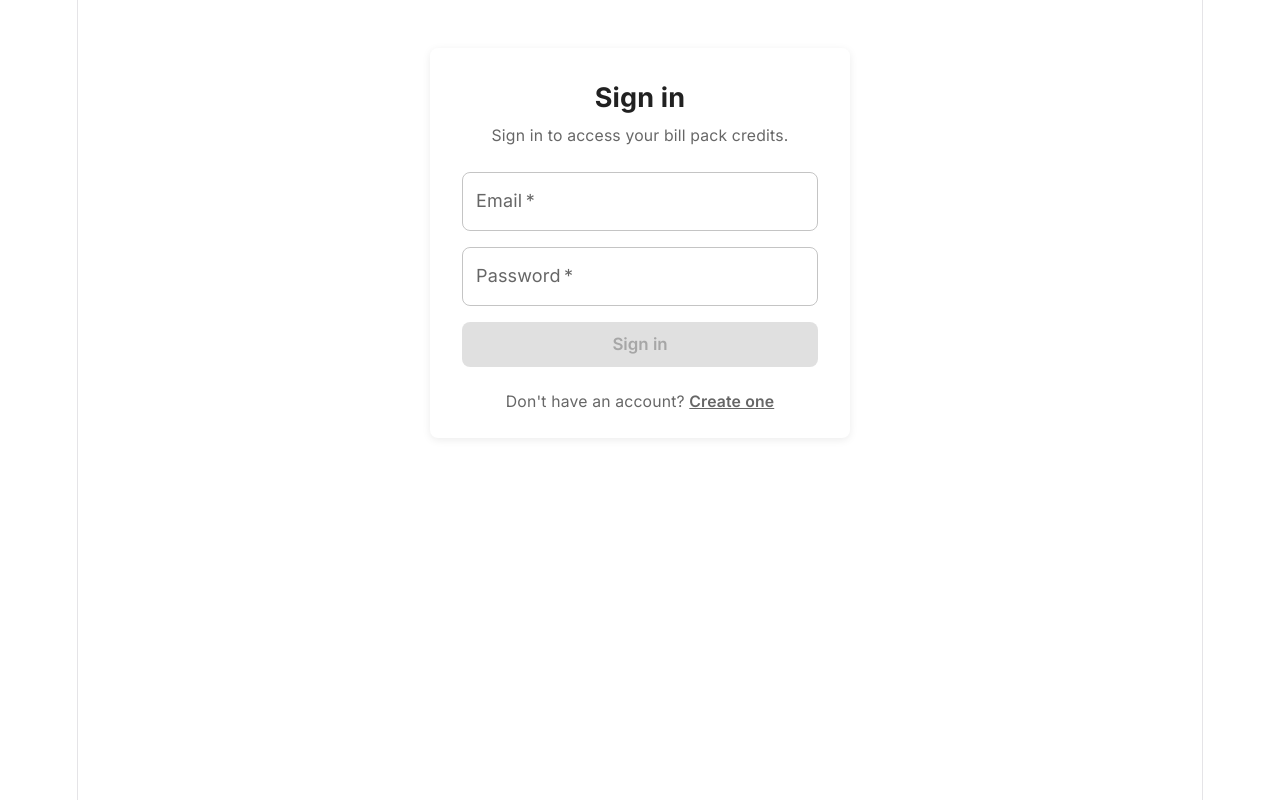
Test: LoginPage › shows an error banner when sign-in fails
Type "bad@example.com" into the field labelled "Email *".
click(640, 201); type("bad@example.com")  # box [462,172,818,231]
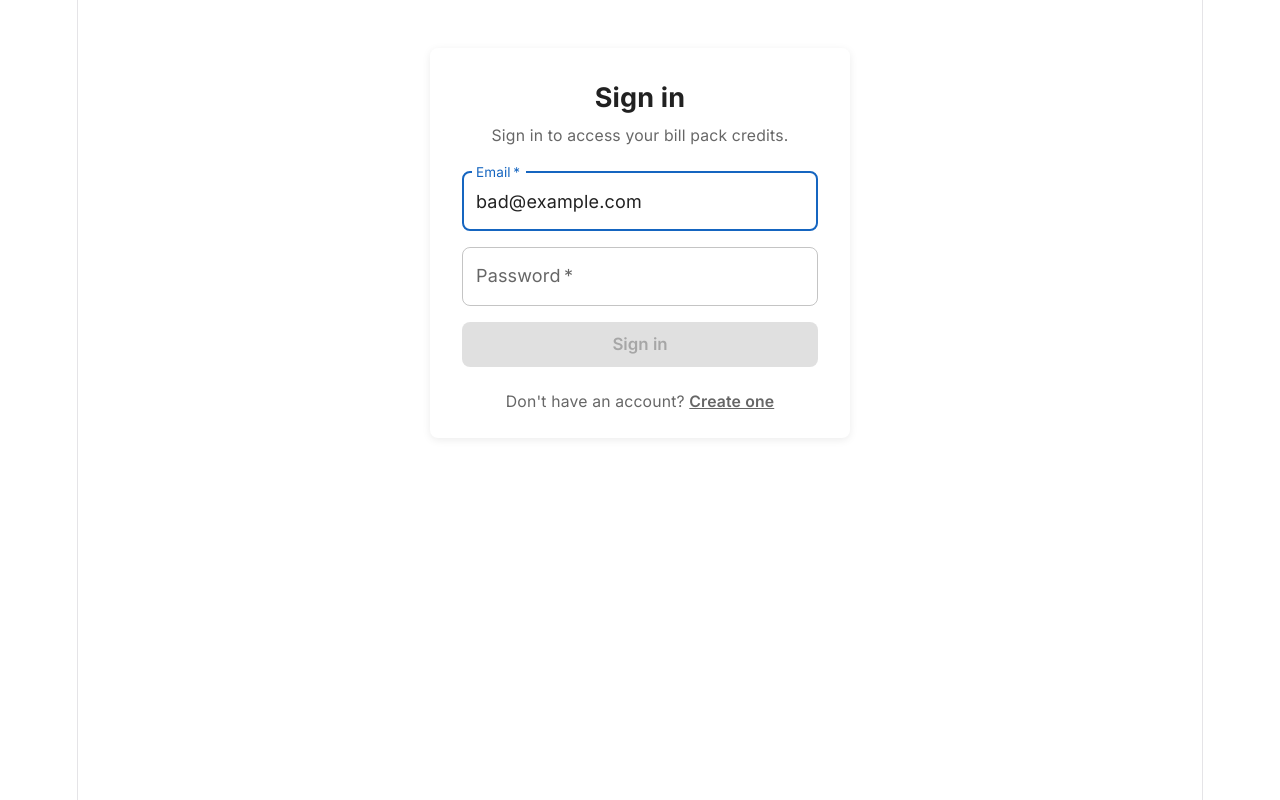
Type "wrongpass" into the password field labelled "Password *".
click(640, 276); type("wrongpass")  # box [462,247,818,306]
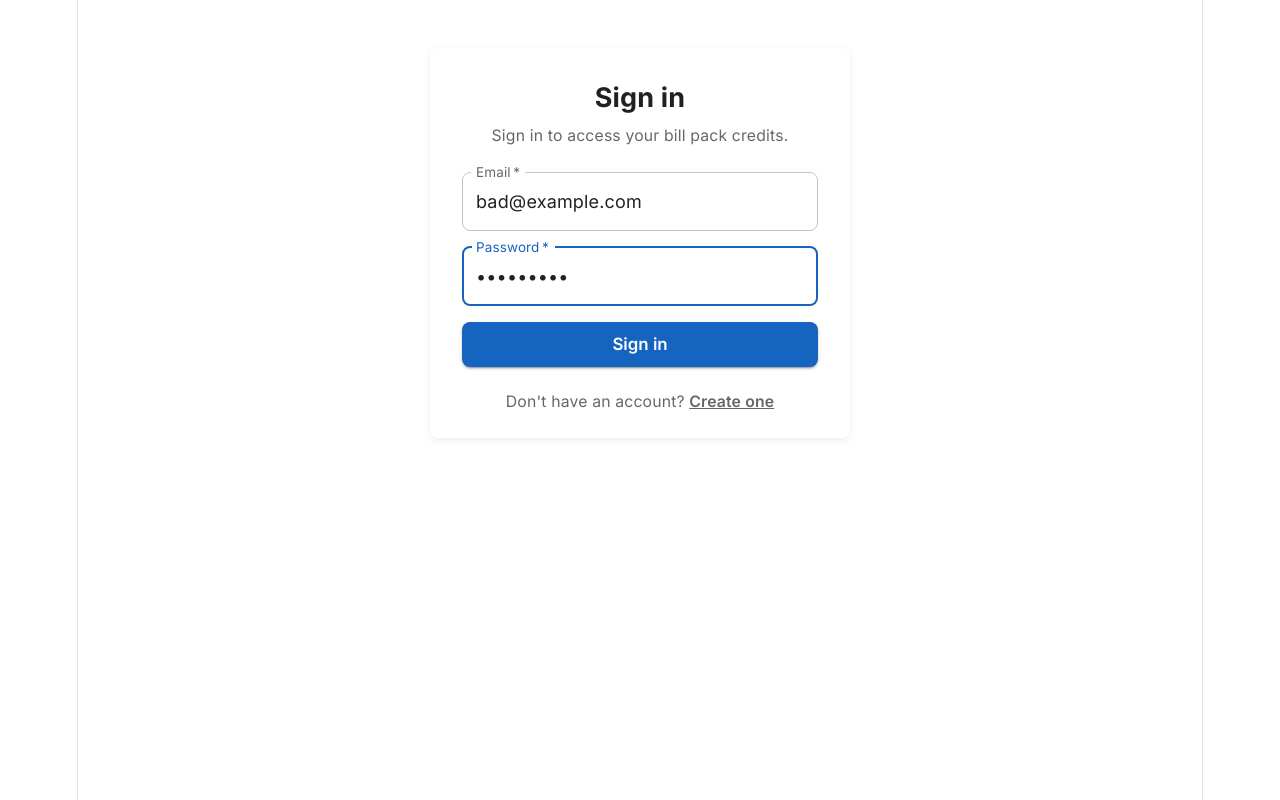
Click the button "Sign in".
click(640, 344)  # box [462,322,818,367]
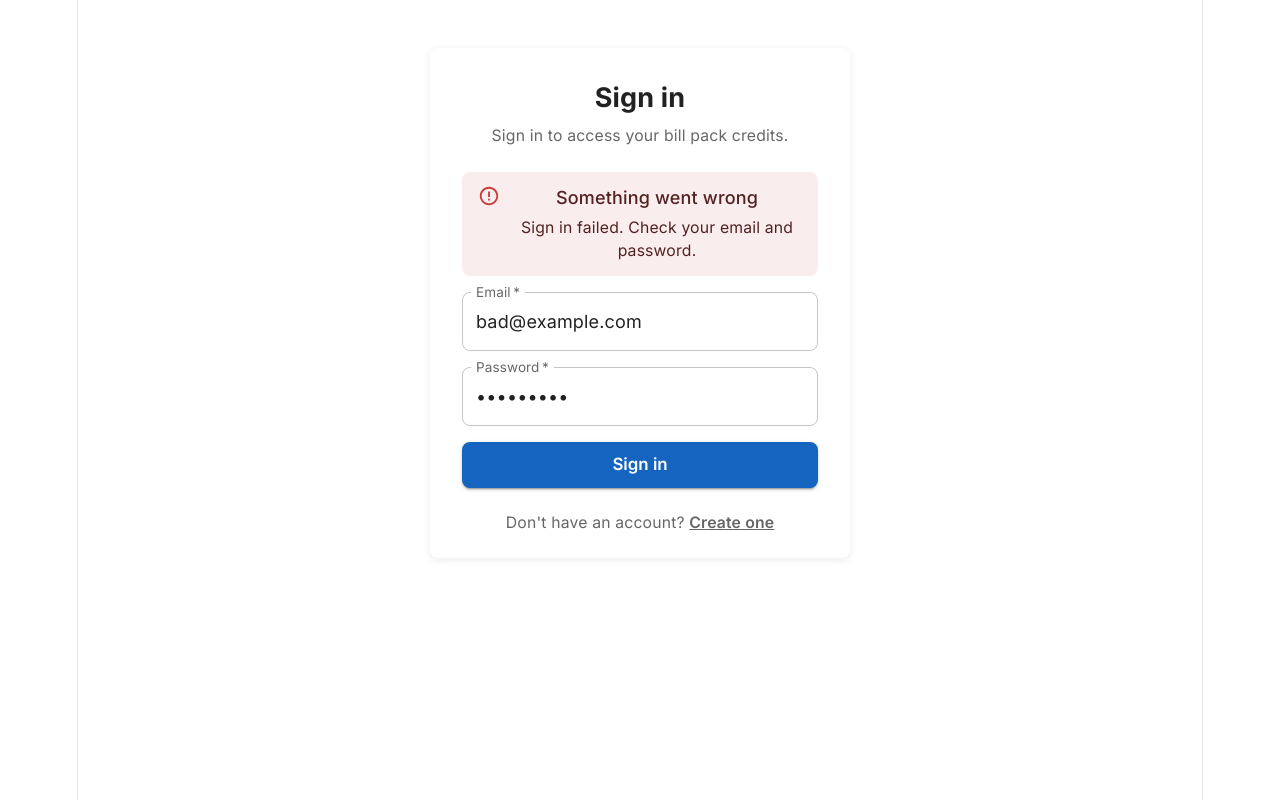
Expected: the text "Sign in failed" is shown, [521,218,793,260]
